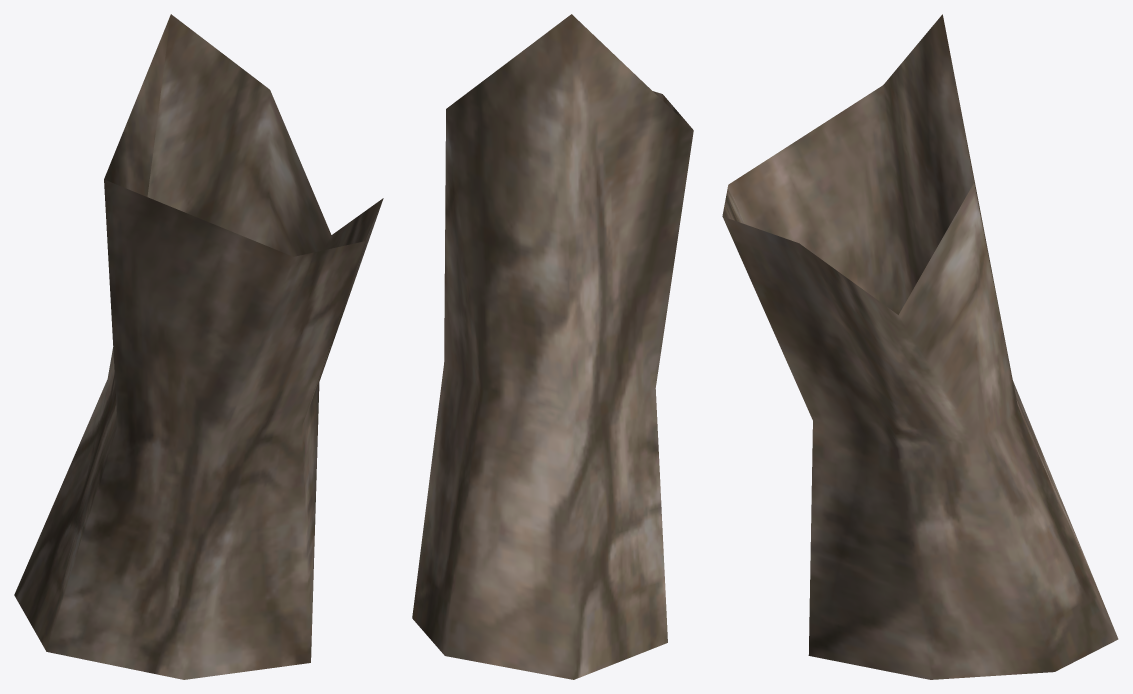
File: EKH_GROTTO_PS_GR_OBJECT384.fbx
The picture shows the model from 3 angles, left to right: view 1: azimuth 30°, elevation 25°; view 2: azimuth 150°, elevation 25°; view 3: azimuth 270°, elevation 25°; orthographic projection. The views are drawn at different scales.
Visible parts, largest first — view 1: EKH_GROTTO_PS_GR_OBJECT384; view 2: EKH_GROTTO_PS_GR_OBJECT384; view 3: EKH_GROTTO_PS_GR_OBJECT384.
Part boxes in pixels (left/top/right/bottom): EKH_GROTTO_PS_GR_OBJECT384: left=14, top=14, right=383, bottom=679; EKH_GROTTO_PS_GR_OBJECT384: left=412, top=14, right=693, bottom=679; EKH_GROTTO_PS_GR_OBJECT384: left=722, top=14, right=1118, bottom=679.
Bounding box in the file's own units: 10058 × 23574 × 13882.
1 material, 1 textured.
